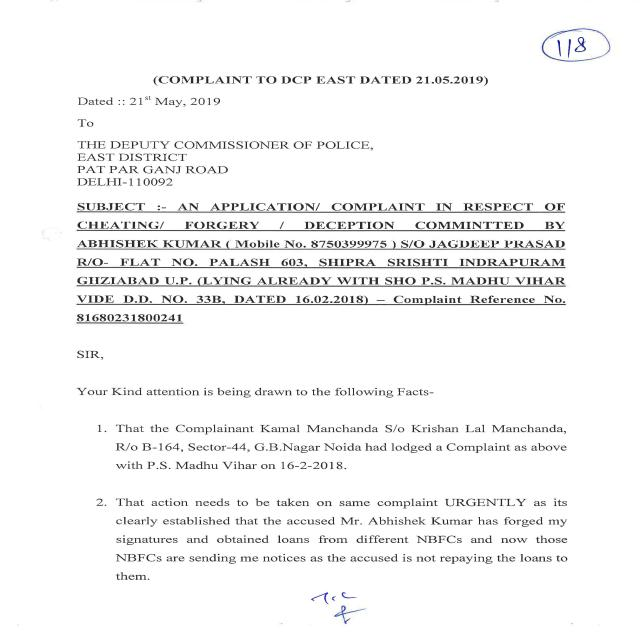page-number: (489, 3, 636, 195)
